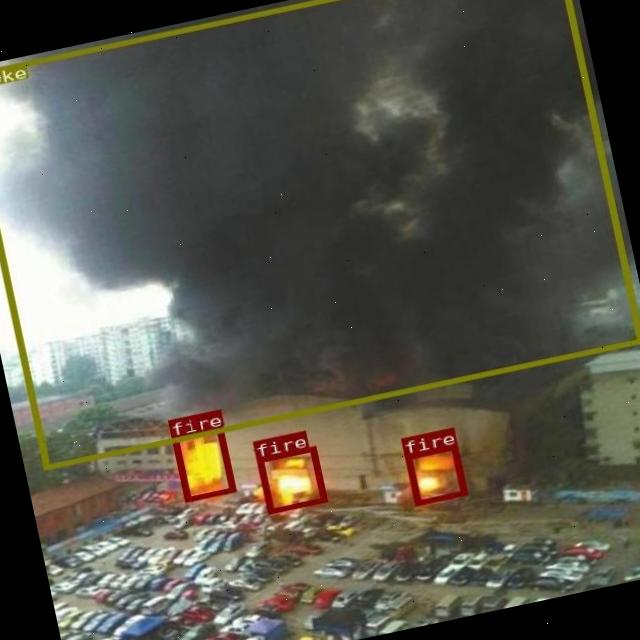fire: (255, 445, 326, 513), (170, 426, 234, 501), (402, 444, 467, 506)
smoke: (0, 0, 640, 468)
